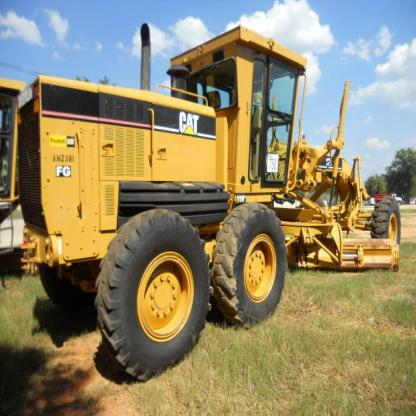bull_dozer/loader/grader: (28, 10, 411, 380)
